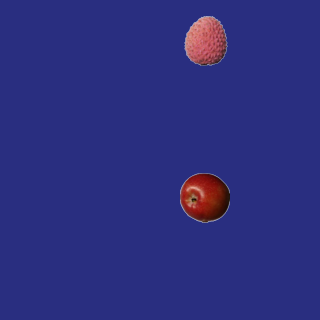Apple Braeburn: (179, 172, 229, 222)
Lychee: (180, 15, 230, 65)
